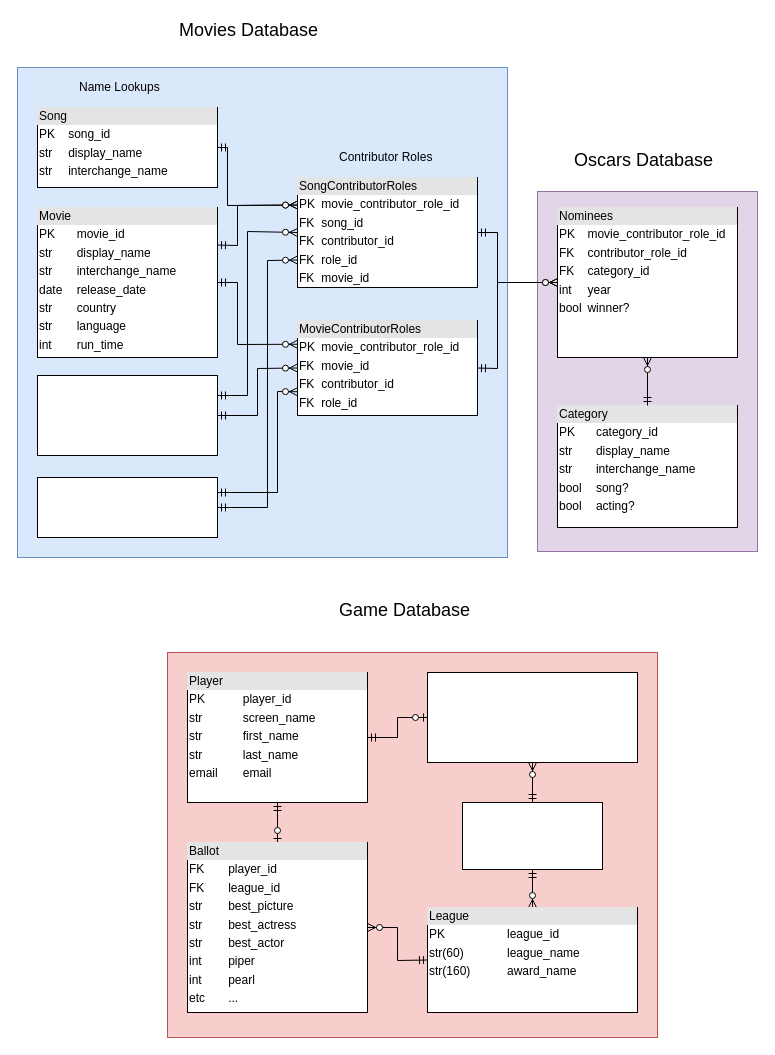
Image size: 775x1055. Some labels were removed from this diagram. Here are the shapes that lost their labels. From the top down, the box of each, then its label:
(36, 374, 218, 456): Contributor PK contributor_id str display_name str interchange_name
(36, 476, 218, 538): Role PK role_id str name
(426, 672, 638, 762): Commissioner FK player_id password_digest password bool designer
(462, 802, 602, 870): LeagueCommissioner FK league_id FK commissioner_id
